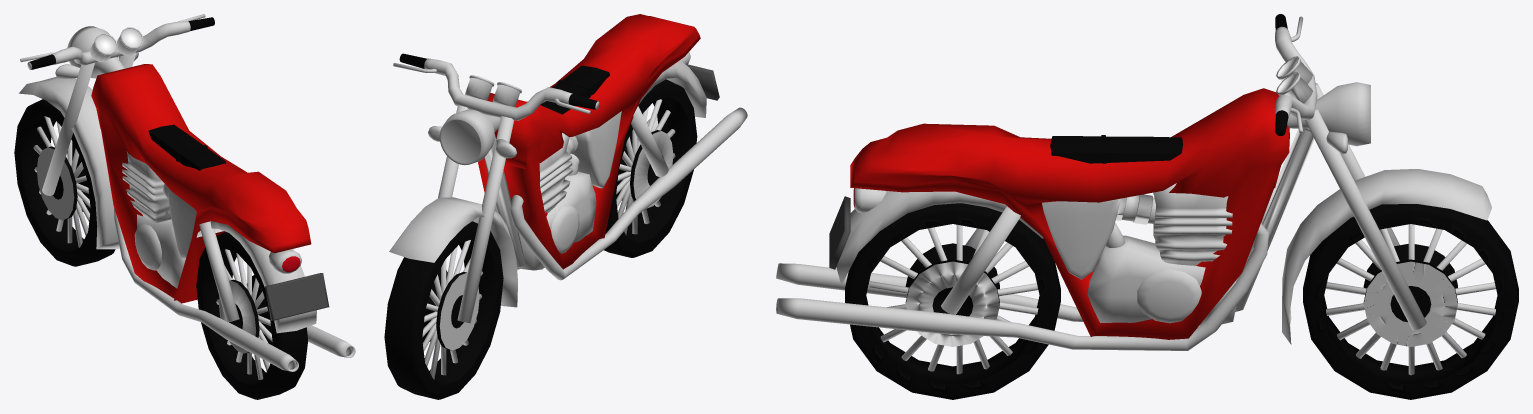
The model's file is мото3.fbx.
3 views of the same model, side by side, from view 1: azimuth 30°, elevation 25°; view 2: azimuth 150°, elevation 25°; view 3: azimuth 270°, elevation 25° (orthographic). The views are drawn at different scales.
Visible parts, largest first — view 1: Gauges_Cylinder.010, Gauges_Cylinder.001, Gauges_Cylinder.002; view 2: Gauges_Cylinder.010, Gauges_Cylinder.001, Gauges_Cylinder.002; view 3: Gauges_Cylinder.010, Gauges_Cylinder.001, Gauges_Cylinder.002.
Boxes of the visible parts, box(x1,y1,x2,y2) form: Gauges_Cylinder.010: box(14, 14, 355, 399); Gauges_Cylinder.001: box(91, 64, 311, 303); Gauges_Cylinder.002: box(148, 124, 225, 170); Gauges_Cylinder.010: box(384, 52, 747, 399); Gauges_Cylinder.001: box(478, 14, 700, 269); Gauges_Cylinder.002: box(540, 65, 609, 114); Gauges_Cylinder.010: box(776, 14, 1518, 399); Gauges_Cylinder.001: box(850, 88, 1289, 339); Gauges_Cylinder.002: box(1050, 135, 1182, 163).
Bounding box in the file's own units: 285 × 383 × 789.
